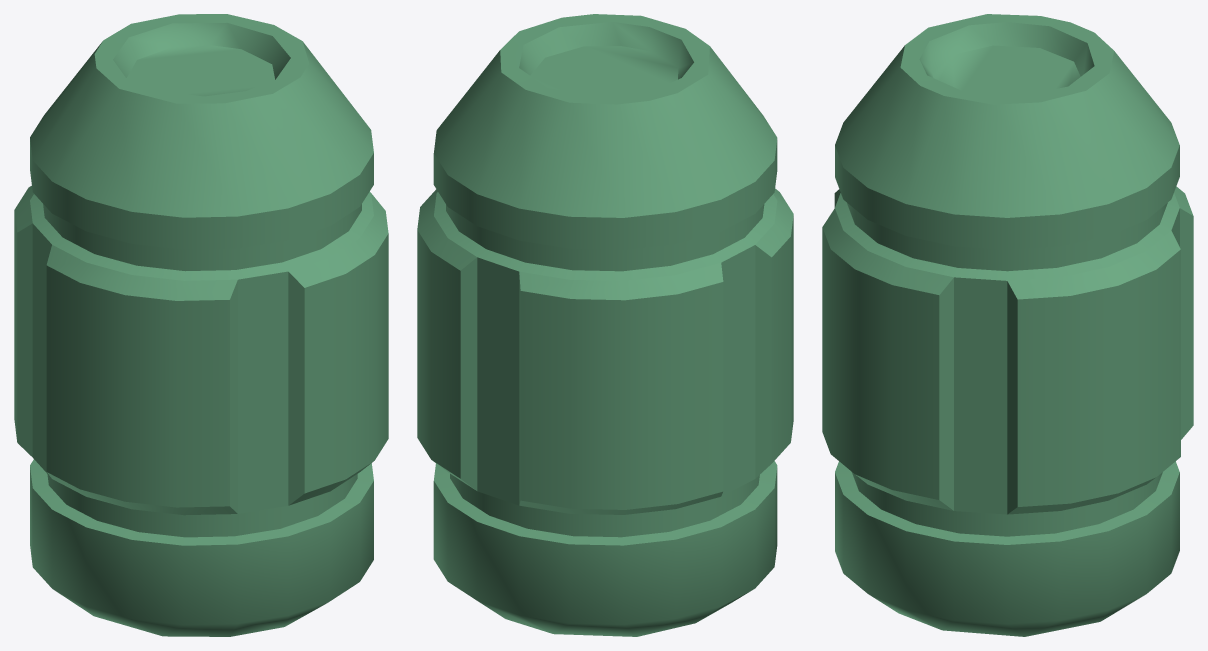
The picture shows the model from 3 angles, left to right: view 1: azimuth 30°, elevation 25°; view 2: azimuth 150°, elevation 25°; view 3: azimuth 270°, elevation 25°; orthographic projection.
Parts seen in each view (by area): view 1: barrel_low; view 2: barrel_low; view 3: barrel_low.
Boxes of the visible parts, x1=… form: barrel_low: x1=14, y1=14, x2=388, y2=636; barrel_low: x1=417, y1=14, x2=793, y2=636; barrel_low: x1=822, y1=14, x2=1193, y2=636.
Bounding box in the file's own units: 39.28 × 60.86 × 39.3.
